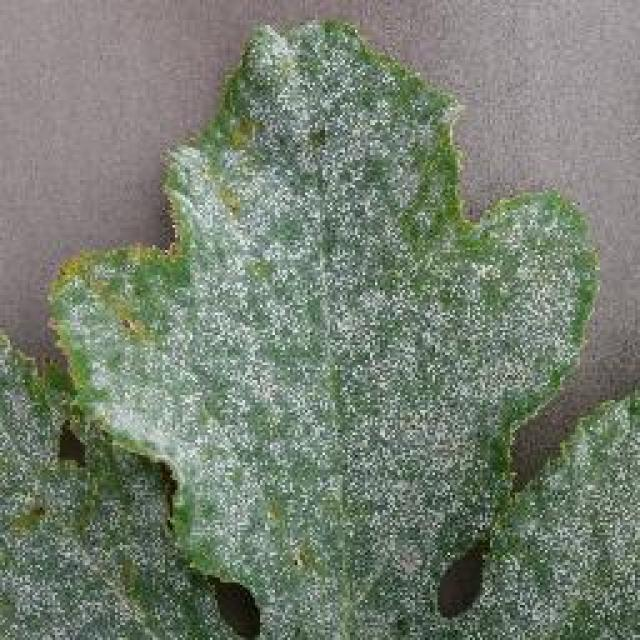Squ_Powdery_mildew: (130, 131, 518, 582)
